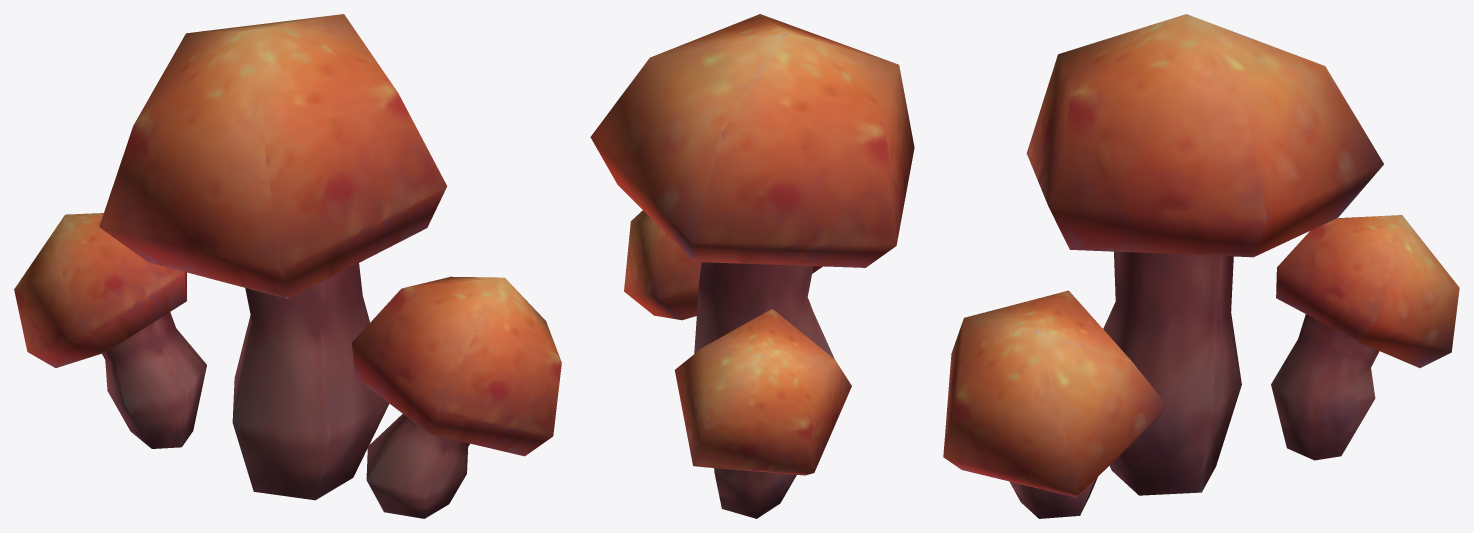
Rendered from mogu2.FBX.
The picture shows the model from 3 angles, left to right: view 1: azimuth 30°, elevation 25°; view 2: azimuth 150°, elevation 25°; view 3: azimuth 270°, elevation 25°; orthographic projection. The views are drawn at different scales.
Parts seen in each view (by area): view 1: mogu2; view 2: mogu2; view 3: mogu2.
Boxes of the visible parts, x1,y1,x2,y2 form: mogu2: [14, 14, 561, 518]; mogu2: [590, 14, 914, 518]; mogu2: [943, 14, 1459, 518].
Bounding box in the file's own units: 1.34 × 1.58 × 1.65.
